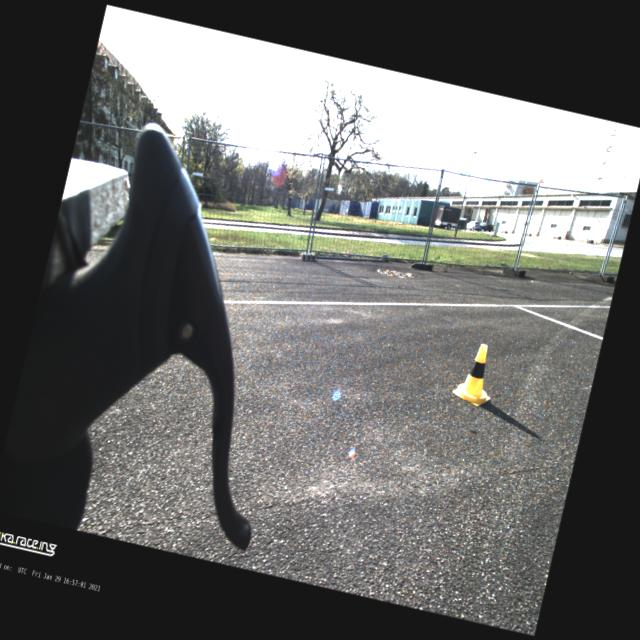yellow_cone: (451, 339, 502, 408)
